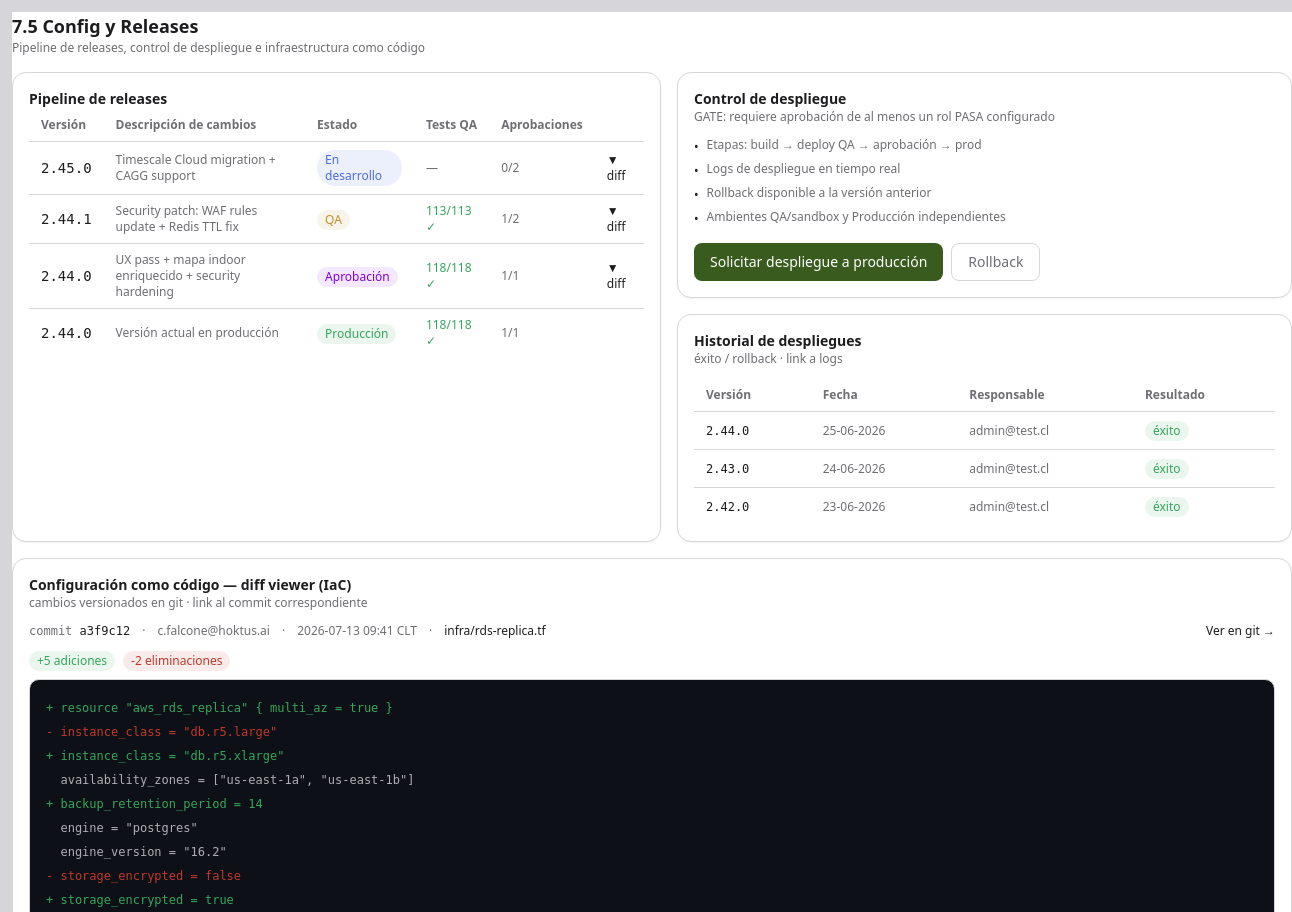
it: ConfigReleasesPage › expands diff on row click
Step 1. Click the text "2.44.1" → (66, 219), box [29,194,104,244]
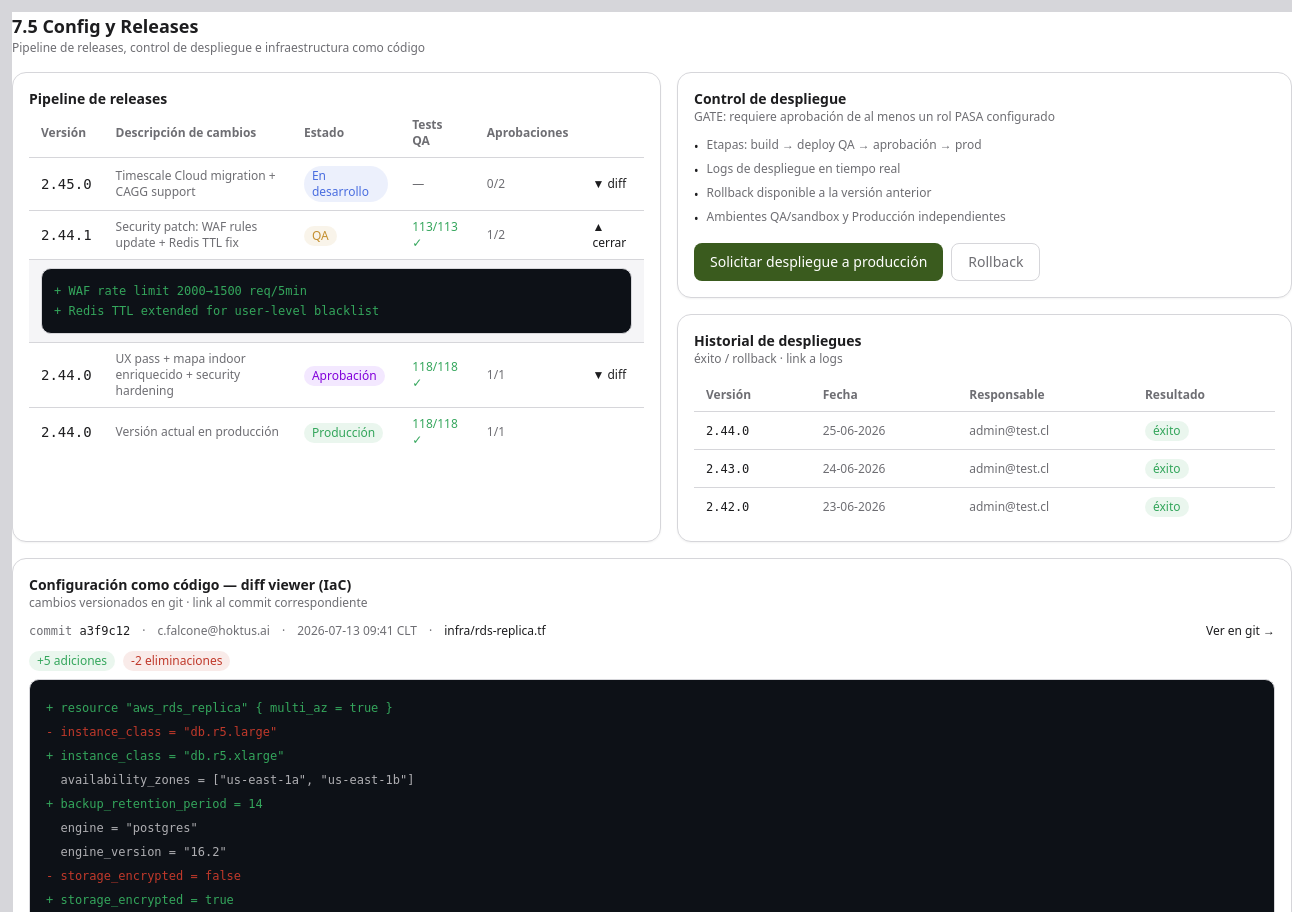
expect the text "+ WAF rate limit 2000→1500 req/5min" is shown: met, box [54,284,307,298]
